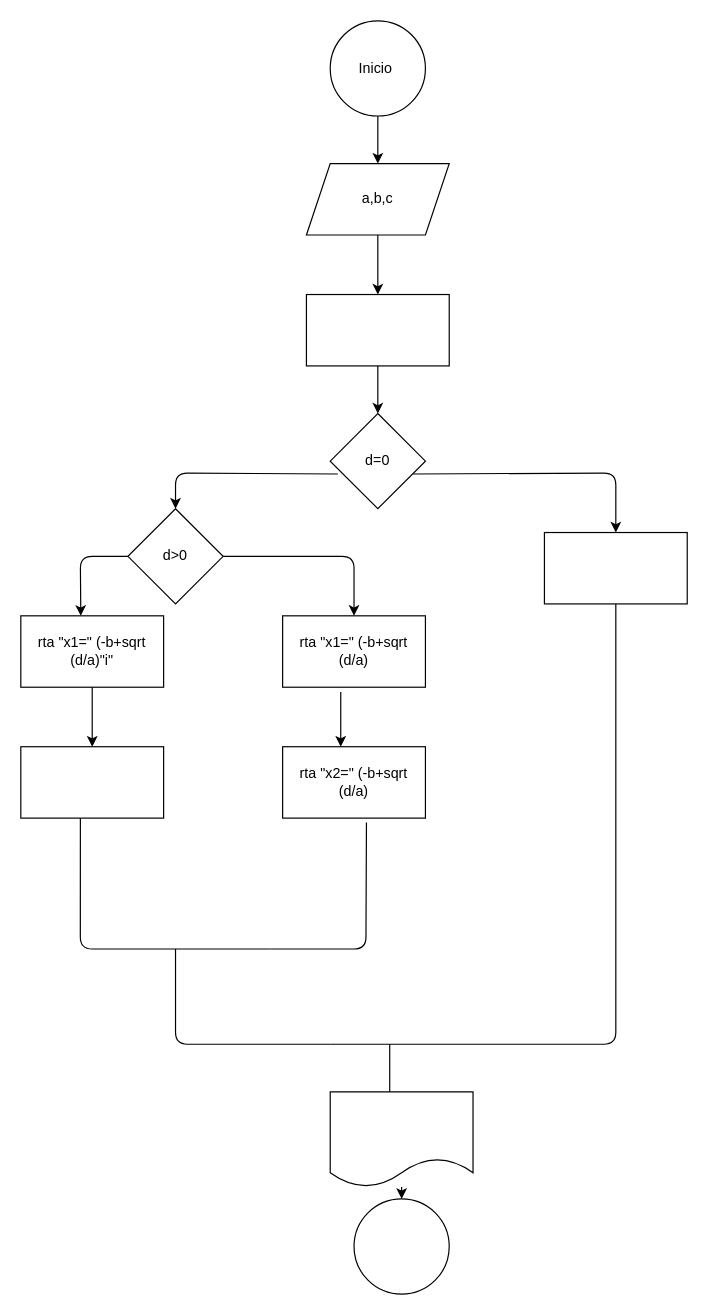
Some shapes in this 708 by 1315 pixel diagram are drawn without their labels. The centre of each missing label's shape, as x and y in pixels:
d=b*b-4ac: [377,329]
rta: [401,1139]
rta "x2=" (-b+sqrt (d/a)"i": [92,782]
rta="x1=x2"-b/a: [615,567]
